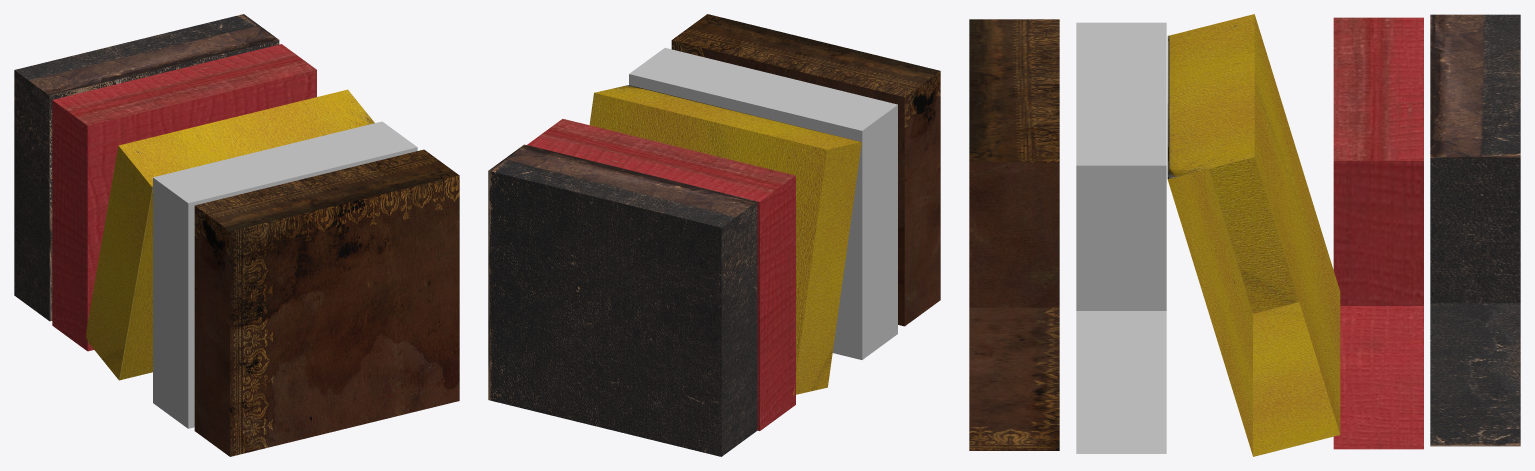
Rendered from books.fbx.
The picture shows the model from 3 angles, left to right: view 1: azimuth 30°, elevation 25°; view 2: azimuth 150°, elevation 25°; view 3: azimuth 270°, elevation 25°; orthographic projection. The views are drawn at different scales.
Visible parts, largest first — view 1: book, book3, book2, book1, book4; view 2: book4, book2, book1, book, book3; view 3: book2, book4, book, book1, book3.
Part boxes in pixels (box(x1,y1,x2,y2)): book: box(194, 149, 459, 456); book3: box(52, 44, 316, 351); book2: box(85, 89, 374, 380); book1: box(153, 121, 417, 428); book4: box(14, 14, 279, 321); book4: box(488, 144, 757, 456); book2: box(589, 85, 861, 395); book1: box(629, 48, 897, 359); book: box(671, 14, 940, 326); book3: box(527, 119, 795, 430); book2: box(1167, 14, 1340, 456); book4: box(1430, 14, 1520, 446); book: box(969, 19, 1059, 450); book1: box(1076, 22, 1166, 453); book3: box(1333, 17, 1423, 449).
Size of the model in its own units: 7.13 by 6.96 by 11.6.
